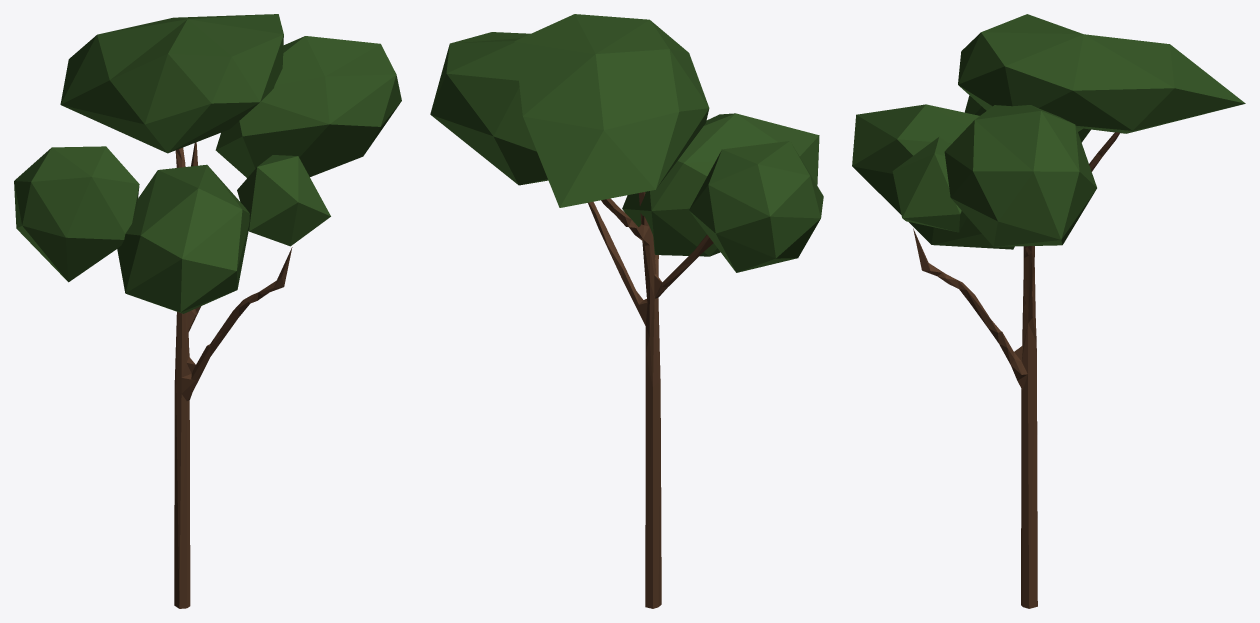
Rendered from SM_tree_02.fbx.
3 views of the same model, side by side, from view 1: azimuth 30°, elevation 25°; view 2: azimuth 150°, elevation 25°; view 3: azimuth 270°, elevation 25° (orthographic). The views are drawn at different scales.
Visible parts, largest first — view 1: Object122; view 2: Object122; view 3: Object122.
Part boxes in pixels (bbox=[...]): Object122: bbox=[14, 14, 401, 608]; Object122: bbox=[430, 14, 823, 608]; Object122: bbox=[852, 14, 1245, 608].
Size of the model in its own units: 204 by 294 by 179.
